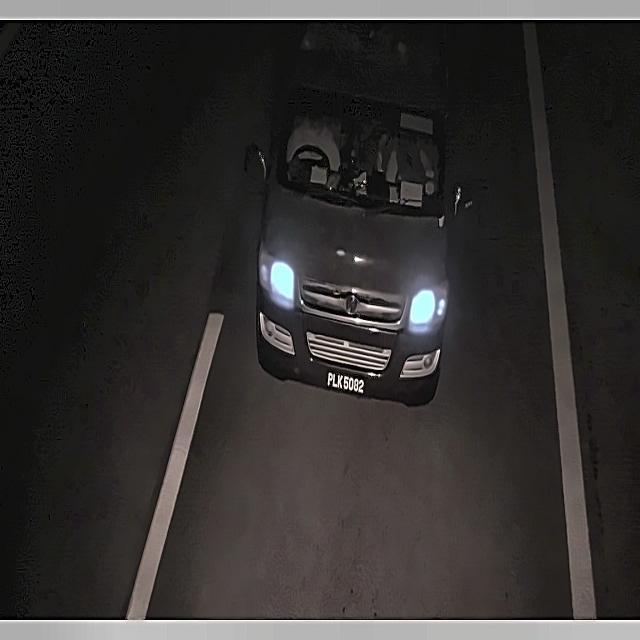car: (323, 367, 371, 399)
